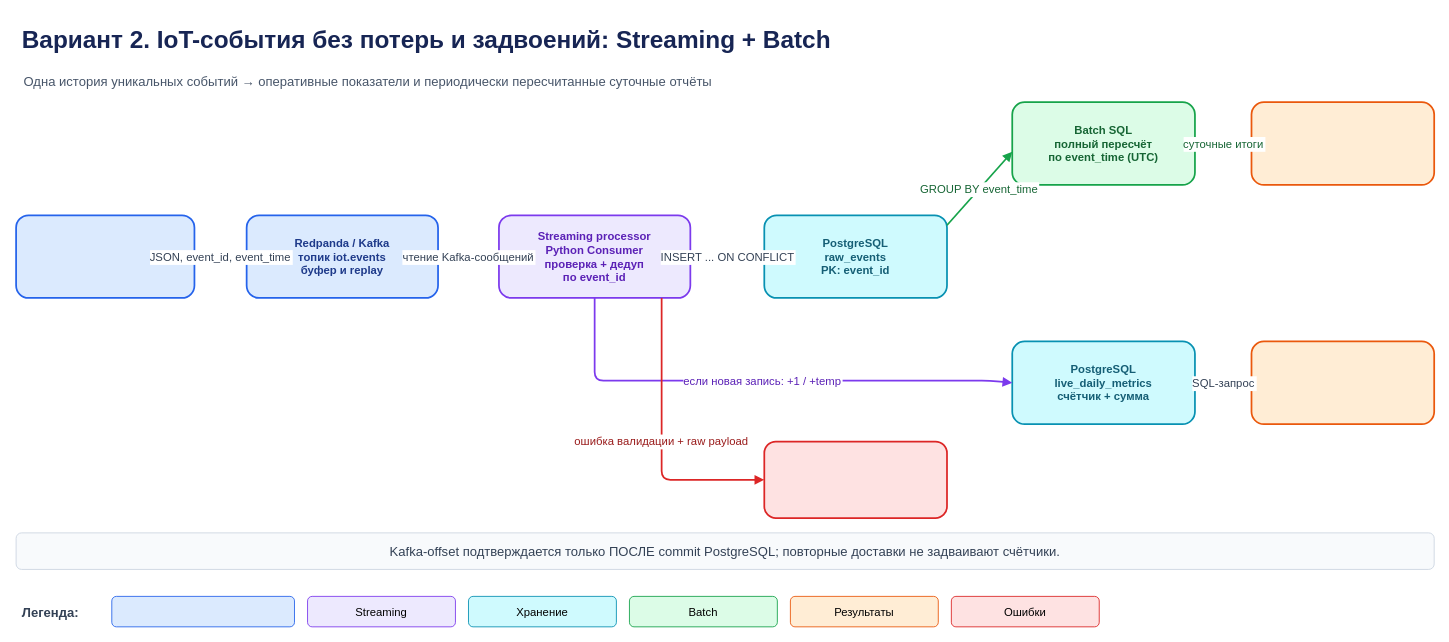
The diagram is 1449 pixels wide and 642 high, and some of its shapes have lost their labels. Each missing label, with the box of its shape:
batch_daily_reports суточный отчёт на момент пересчёта: (1250, 101, 1435, 185)
IoT-датчики Python producer (демонстрация): (15, 214, 195, 298)
rejected_events некорректный JSON ошибка + Kafka offset: (763, 440, 947, 519)
Источник / брокер: (111, 596, 294, 627)
Мониторинг SQL-запрос почти real-time: (1250, 340, 1435, 425)
